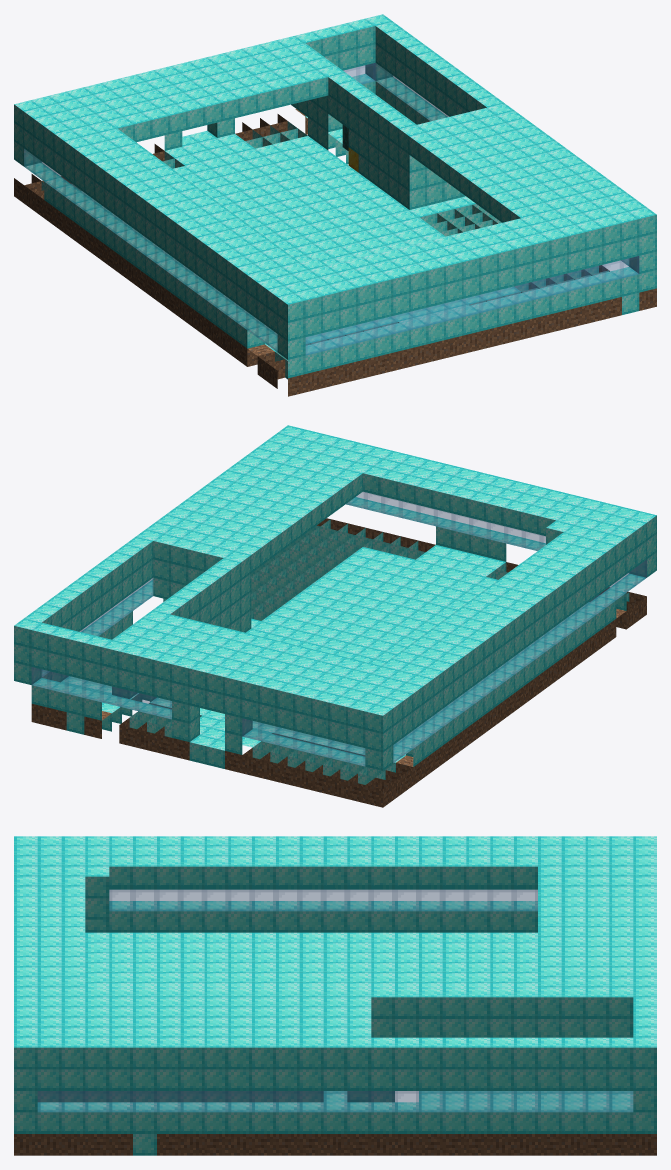
File: Maquete_Bernardo Sozza Bastos.glb
3 views of the same model, one above another, from view 1: azimuth 30°, elevation 25°; view 2: azimuth 150°, elevation 25°; view 3: azimuth 270°, elevation 25° (orthographic). The views are drawn at different scales.
Visible parts, largest first — view 1: node_7, node_9, node_5, node_2, node_6, node_1, node_8, node_3; view 2: node_9, node_7, node_5, node_2, node_8, node_6, node_3, node_1; view 3: node_5, node_2, node_9, node_7, node_3, node_1, node_8, node_6.
Part boxes in pixels (x1,y1,x2,y2): node_7: (156, 195, 498, 396); node_9: (14, 53, 366, 299); node_5: (225, 14, 524, 230); node_2: (367, 118, 656, 344); node_6: (156, 245, 498, 355); node_1: (499, 256, 639, 308); node_8: (24, 149, 155, 262); node_3: (343, 63, 448, 120); node_9: (172, 599, 524, 807); node_7: (314, 464, 656, 703); node_5: (14, 522, 313, 755); node_2: (156, 425, 445, 633); node_8: (242, 649, 524, 766); node_6: (436, 509, 646, 666); node_3: (31, 578, 171, 719); node_1: (346, 492, 435, 526); node_5: (323, 957, 656, 1155); node_2: (14, 957, 323, 1155); node_9: (323, 836, 656, 987); node_7: (14, 836, 323, 987); node_3: (323, 1091, 633, 1112); node_1: (37, 1091, 323, 1112); node_8: (323, 889, 537, 911); node_6: (109, 889, 323, 911).
Bounding box in the file's own units: 21 × 5 × 27.
Materials: 3 (3 with a texture image).
